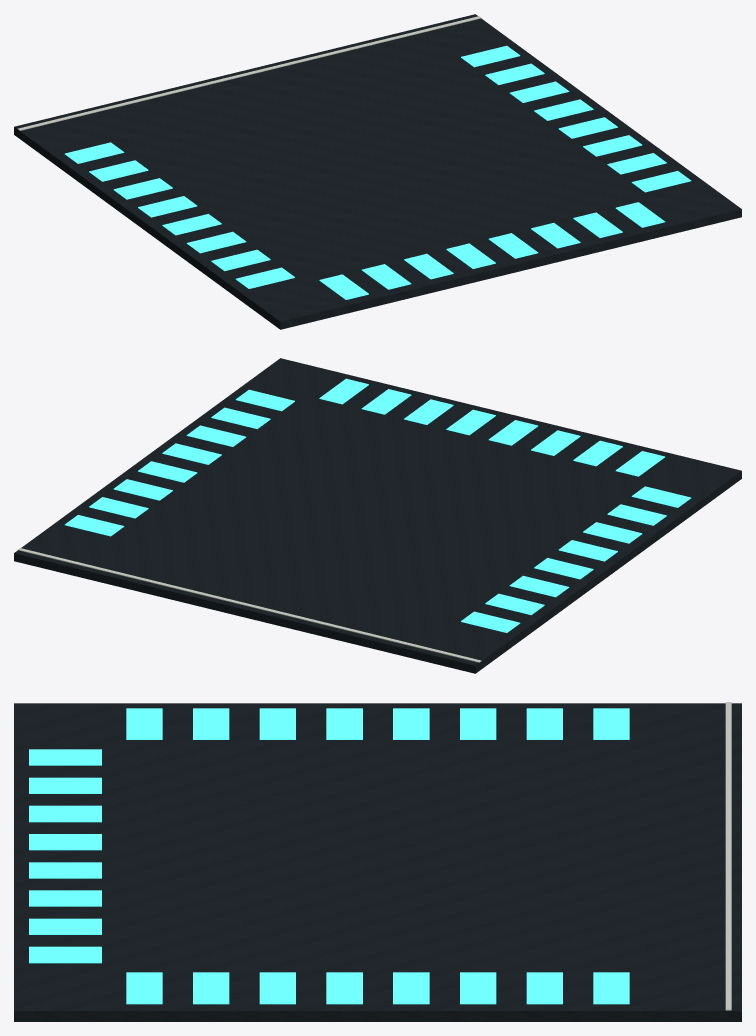
Rendered from Road_TJunction_12m.glb.
The picture shows the model from 3 angles, top to bottom: view 1: azimuth 30°, elevation 25°; view 2: azimuth 150°, elevation 25°; view 3: azimuth 270°, elevation 25°; orthographic projection. The views are drawn at different scales.
Visible parts, largest first — view 1: Road_TJunction_12m_Surface, Road_TJunction_12m_Crosswalk_0_-1, Road_TJunction_12m_Crosswalk_0_1, Road_TJunction_12m_Crosswalk_1_-1, Road_TJunction_12m_ClosedEdge; view 2: Road_TJunction_12m_Surface, Road_TJunction_12m_Crosswalk_0_-1, Road_TJunction_12m_Crosswalk_0_1, Road_TJunction_12m_Crosswalk_1_-1, Road_TJunction_12m_ClosedEdge; view 3: Road_TJunction_12m_Surface, Road_TJunction_12m_Crosswalk_1_-1, Road_TJunction_12m_Crosswalk_0_1, Road_TJunction_12m_Crosswalk_0_-1, Road_TJunction_12m_ClosedEdge.
Boxes of the visible parts, bbox=[...] form: Road_TJunction_12m_Surface: bbox=[14, 14, 741, 329]; Road_TJunction_12m_Crosswalk_0_-1: bbox=[65, 142, 294, 288]; Road_TJunction_12m_Crosswalk_0_1: bbox=[461, 45, 691, 192]; Road_TJunction_12m_Crosswalk_1_-1: bbox=[319, 202, 665, 299]; Road_TJunction_12m_ClosedEdge: bbox=[18, 16, 481, 130]; Road_TJunction_12m_Surface: bbox=[14, 358, 741, 673]; Road_TJunction_12m_Crosswalk_0_-1: bbox=[461, 486, 690, 632]; Road_TJunction_12m_Crosswalk_0_1: bbox=[64, 389, 294, 536]; Road_TJunction_12m_Crosswalk_1_-1: bbox=[319, 378, 664, 476]; Road_TJunction_12m_ClosedEdge: bbox=[18, 548, 481, 662]; Road_TJunction_12m_Surface: bbox=[14, 703, 741, 1021]; Road_TJunction_12m_Crosswalk_1_-1: bbox=[29, 749, 101, 963]; Road_TJunction_12m_Crosswalk_0_1: bbox=[126, 972, 629, 1004]; Road_TJunction_12m_Crosswalk_0_-1: bbox=[126, 708, 629, 739]; Road_TJunction_12m_ClosedEdge: bbox=[725, 702, 731, 1010].
Size of the model in its own units: 12 by 0.223 by 12.
Materials: 3 (1 with a texture image).
